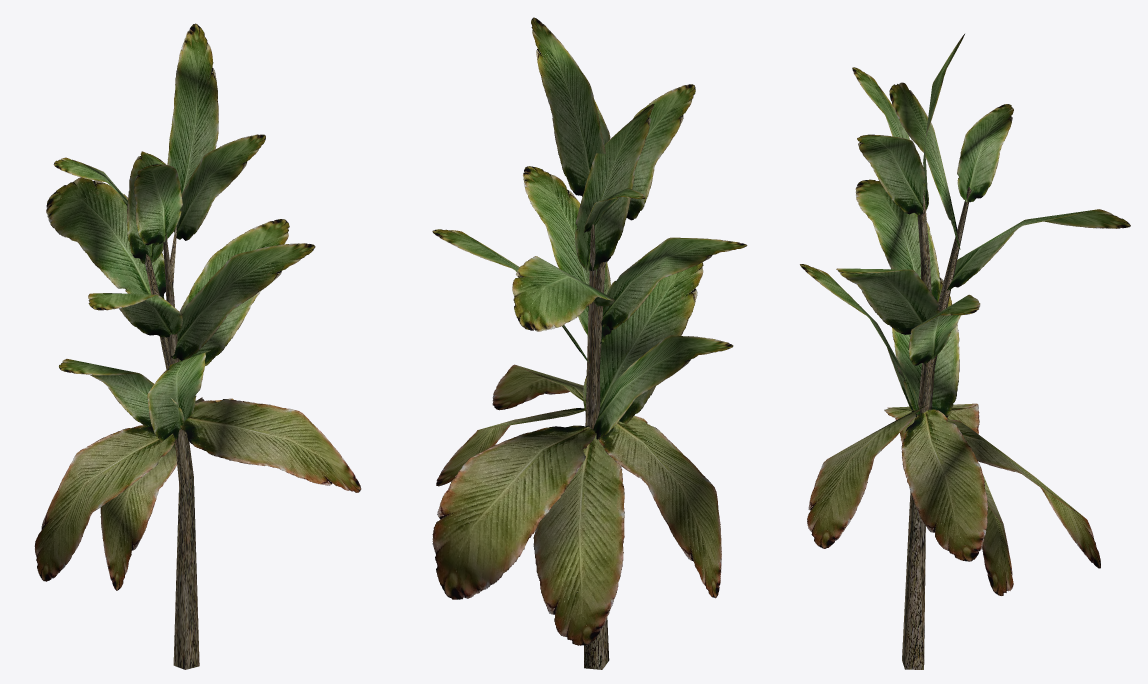
File: ADDON_PLANTS_JUNGLETREE_04_163P.glb
3 views of the same model, side by side, from view 1: azimuth 30°, elevation 25°; view 2: azimuth 150°, elevation 25°; view 3: azimuth 270°, elevation 25° (orthographic). The views are drawn at different scales.
Parts seen in each view (by area): view 1: Mesh; view 2: Mesh; view 3: Mesh.
Part boxes in pixels (bbox=[...]): Mesh: bbox=[34, 23, 361, 669]; Mesh: bbox=[432, 17, 747, 669]; Mesh: bbox=[800, 34, 1130, 669].
Bounding box in the file's own units: 6.94 × 14.79 × 7.14.
Materials: 3 (3 with a texture image).
